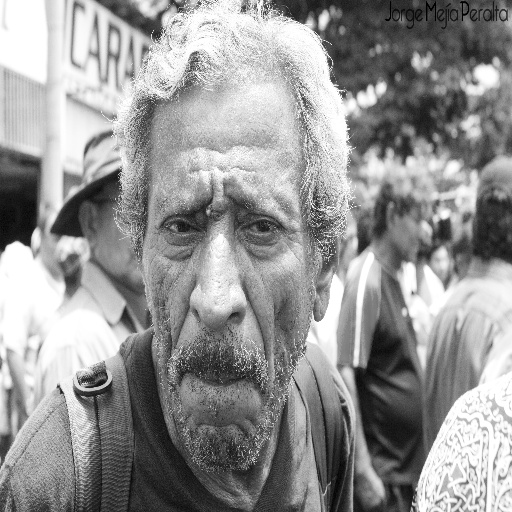hand: (353, 466, 386, 511), (417, 218, 433, 265)
